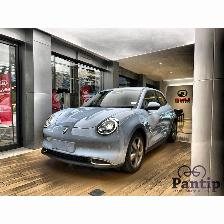EV: (42, 83, 179, 177)
